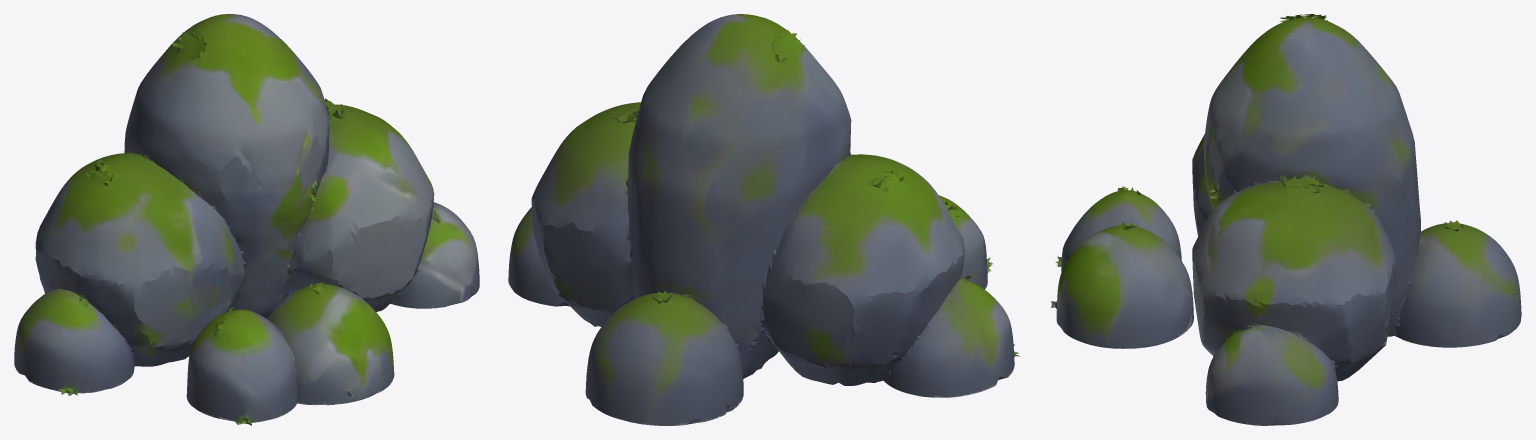
Rendered from mossy-rock.glb.
3 renders of one model, left to right at view 1: azimuth 30°, elevation 25°; view 2: azimuth 150°, elevation 25°; view 3: azimuth 270°, elevation 25°, orthographic. The views are drawn at different scales.
Parts seen in each view (by area): view 1: Rodin_mossyrock; view 2: Rodin_mossyrock; view 3: Rodin_mossyrock.
Part boxes in pixels (left/top/right/bottom): Rodin_mossyrock: left=14, top=14, right=479, bottom=425; Rodin_mossyrock: left=508, top=14, right=1020, bottom=425; Rodin_mossyrock: left=1051, top=14, right=1521, bottom=425.
Size of the model in its own units: 1.5 by 0.9369 by 1.36.
Materials: 1 (1 with a texture image).
